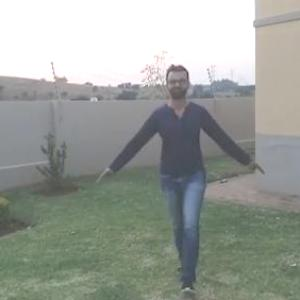land: (129, 75, 238, 266)
